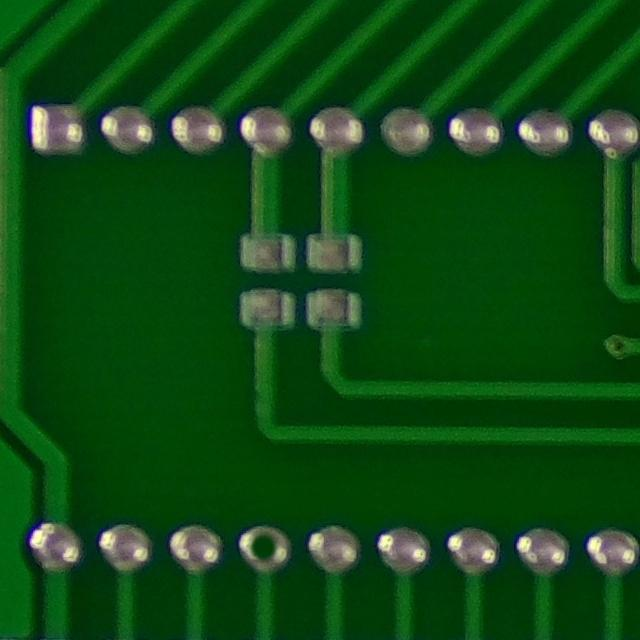missing_hole: (232, 514, 295, 577)
